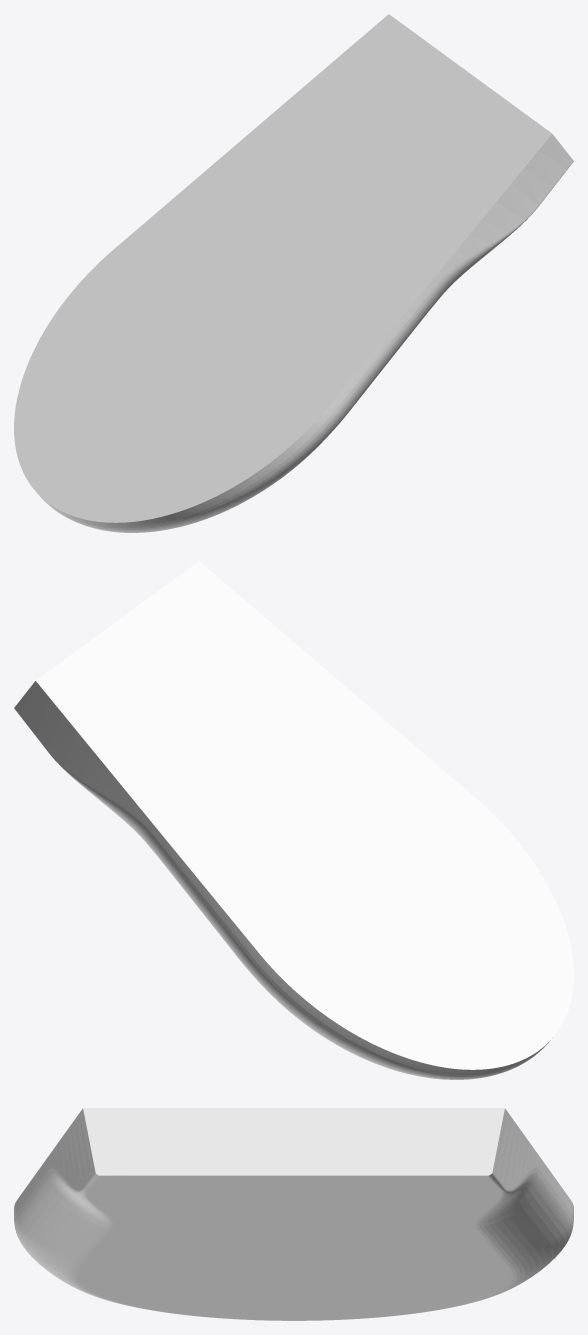
The model's file is Karas-Ster.OBJ.
3 renders of one model, top to bottom at view 1: azimuth 30°, elevation 25°; view 2: azimuth 150°, elevation 25°; view 3: azimuth 270°, elevation 25°, orthographic. The views are drawn at different scales.
Parts seen in each view (by area): view 1: Group19559, Group19514, Group19544; view 2: Group19559, Group19514, Group19544; view 3: Group19529, Group19499, Group19514, Group19544.
Part boxes in pixels (x1,y1,x2,y2): Group19559: (14,14,551,522); Group19514: (43,161,573,532); Group19544: (37,134,573,526); Group19559: (36,561,573,1069); Group19514: (14,708,544,1079); Group19544: (14,681,550,1073); Group19529: (77,1175,510,1320); Group19499: (83,1108,504,1175); Group19514: (14,1164,573,1320); Group19544: (14,1108,573,1212).
Size of the model in its own units: 0.5208 by 0.3827 by 0.4356.
Materials: 1 (1 with a texture image).
